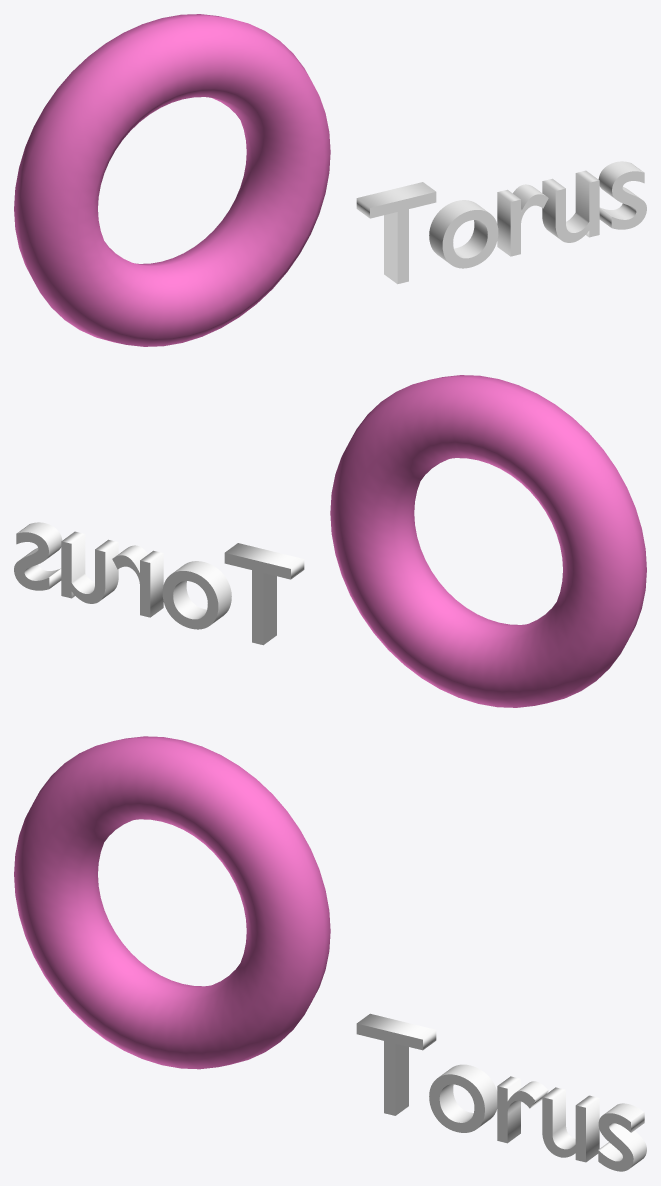
3 renders of one model, top to bottom at view 1: azimuth 30°, elevation 25°; view 2: azimuth 150°, elevation 25°; view 3: azimuth 330°, elevation 25°, orthographic.
Parts seen in each view (by area): view 1: Model_5_Torus; view 2: Model_5_Torus; view 3: Model_5_Torus.
Part boxes in pixels (x1=…): Model_5_Torus: x1=14, y1=14, x2=646, y2=346; Model_5_Torus: x1=14, y1=375, x2=646, y2=707; Model_5_Torus: x1=14, y1=736, x2=646, y2=1171.
Bounding box in the file's own units: 4.27 × 2.1 × 0.5.
